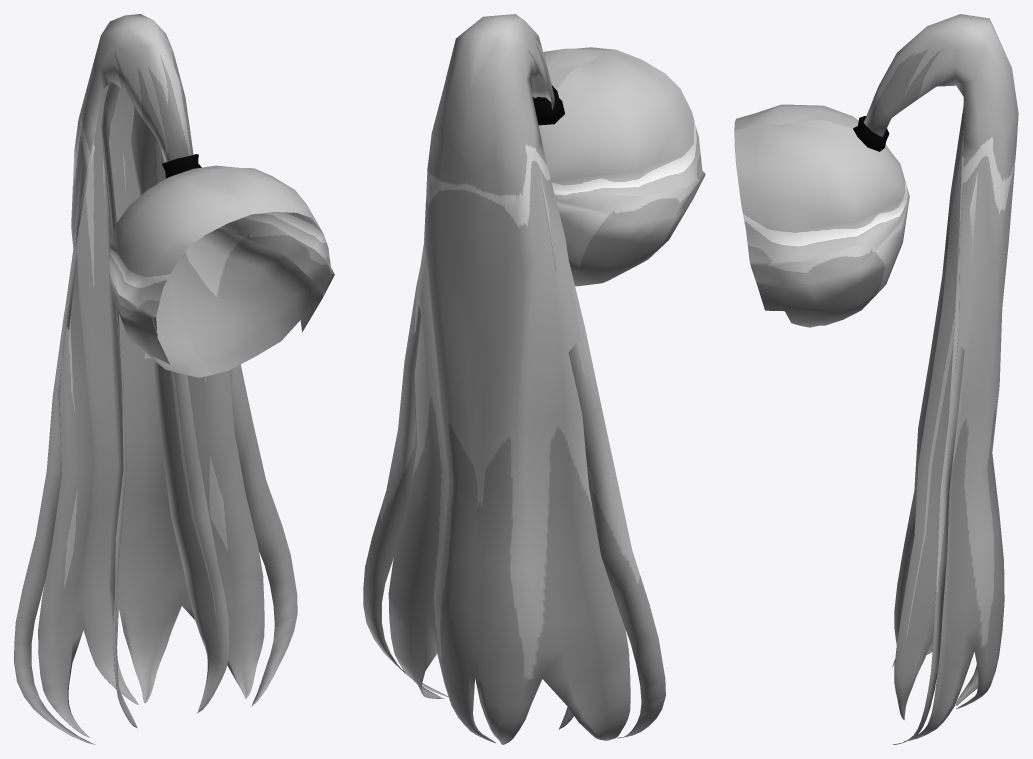
File: HairBack19.fbx
The picture shows the model from 3 angles, left to right: view 1: azimuth 30°, elevation 25°; view 2: azimuth 150°, elevation 25°; view 3: azimuth 270°, elevation 25°; orthographic projection. The views are drawn at different scales.
Parts seen in each view (by area): view 1: BackHair19_mesh; view 2: BackHair19_mesh; view 3: BackHair19_mesh.
Boxes of the visible parts, x1,y1,x2,y2 form: BackHair19_mesh: (14,14,334,744); BackHair19_mesh: (363,14,705,744); BackHair19_mesh: (734,14,1018,744).
Bounding box in the file's own units: 34.26 × 78.71 × 29.48.
Materials: 2 (1 with a texture image).
